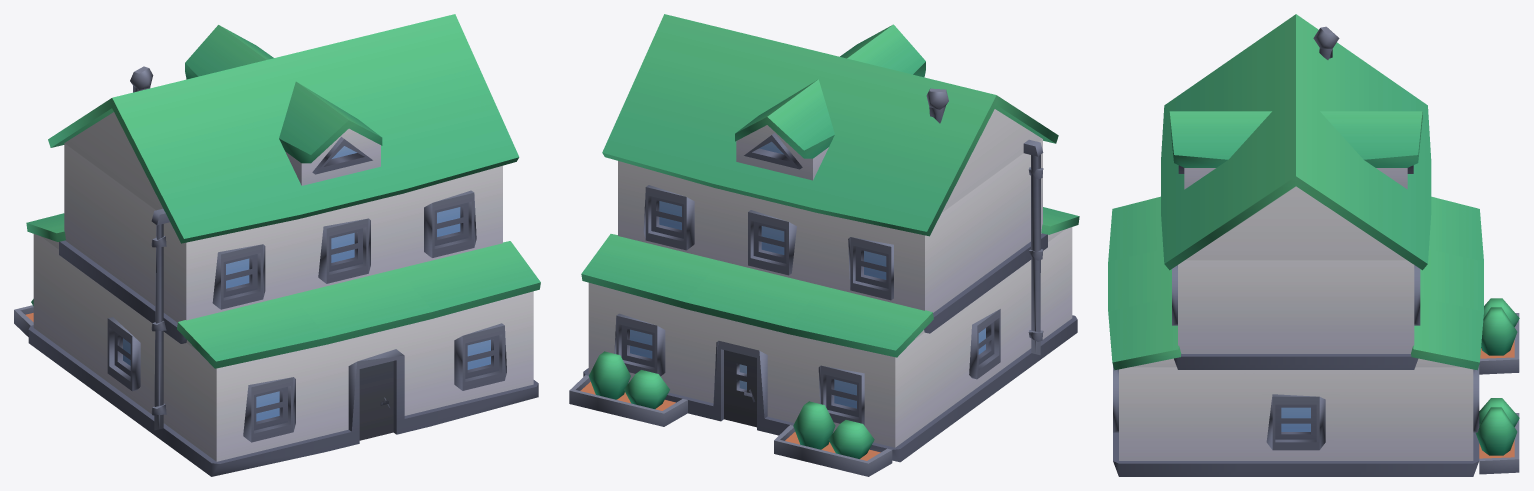
Rendered from 073_city-kit-suburban_building-type-t_card.glb.
The picture shows the model from 3 angles, left to right: view 1: azimuth 30°, elevation 25°; view 2: azimuth 150°, elevation 25°; view 3: azimuth 270°, elevation 25°; orthographic projection. The views are drawn at different scales.
Parts seen in each view (by area): view 1: building-type-t; view 2: building-type-t; view 3: building-type-t.
Part boxes in pixels (box(x1,y1,x2,y2)): building-type-t: box(14, 14, 540, 476); building-type-t: box(569, 14, 1079, 476); building-type-t: box(1108, 14, 1519, 476).
Size of the model in its own units: 1.31 by 1.16 by 1.39.
Materials: 1 (1 with a texture image).
